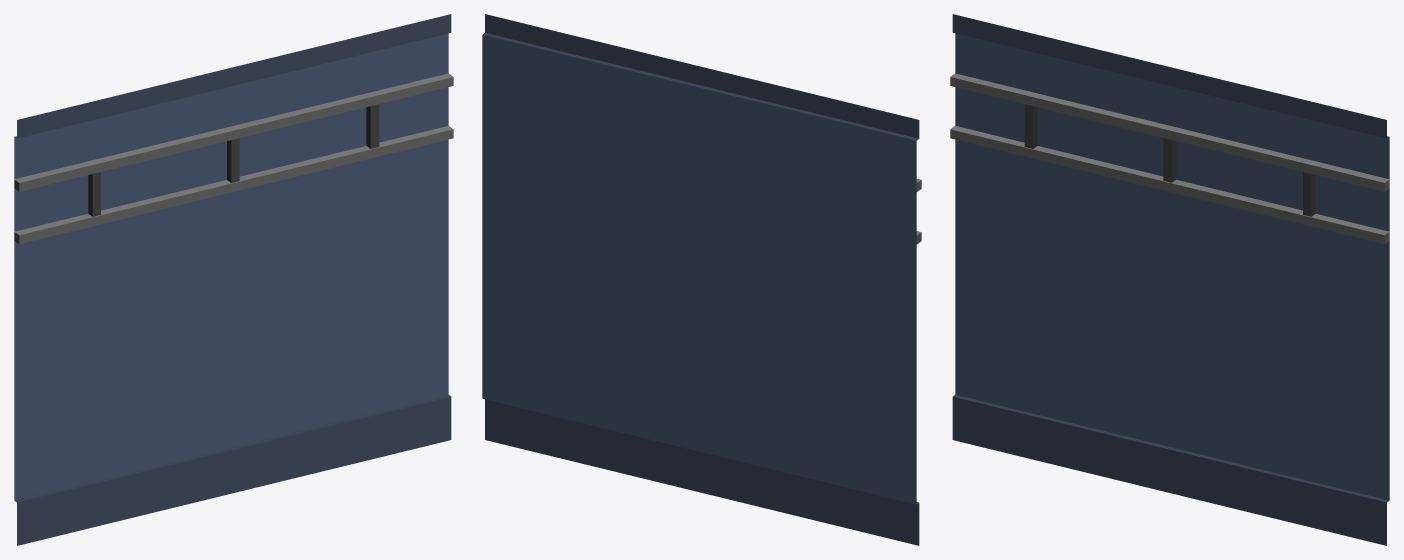
File: AI_Env_Wall_Blue_Electronics_Straight.fbx
3 renders of one model, left to right at view 1: azimuth 30°, elevation 25°; view 2: azimuth 150°, elevation 25°; view 3: azimuth 330°, elevation 25°, orthographic.
Parts seen in each view (by area): view 1: AI_Env_Wall_Blue_Electronics_Straight; view 2: AI_Env_Wall_Blue_Electronics_Straight; view 3: AI_Env_Wall_Blue_Electronics_Straight.
Boxes of the visible parts, left/top/right/bottom form: AI_Env_Wall_Blue_Electronics_Straight: left=14, top=14, right=453, bottom=545; AI_Env_Wall_Blue_Electronics_Straight: left=482, top=14, right=921, bottom=545; AI_Env_Wall_Blue_Electronics_Straight: left=950, top=14, right=1389, bottom=545.
Size of the model in its own units: 5 by 4.69 by 0.0984.
